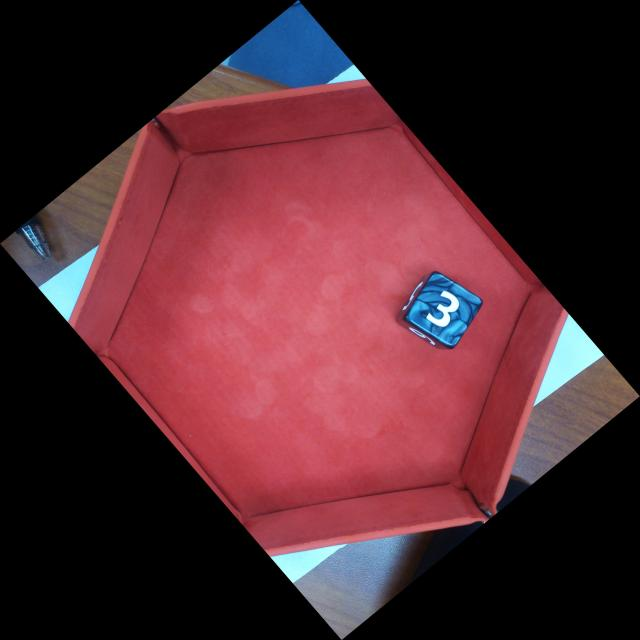dice: (403, 270, 484, 351)
